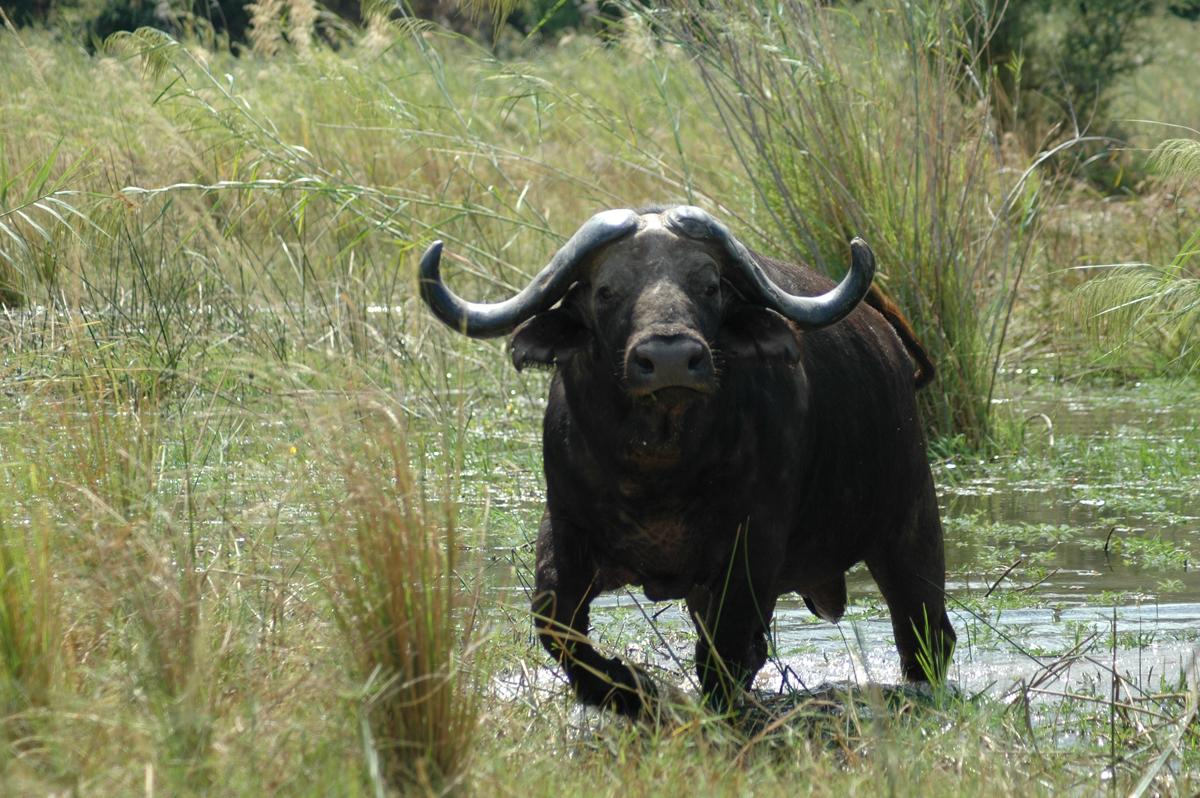Buffalo: (56, 39, 1180, 798)
